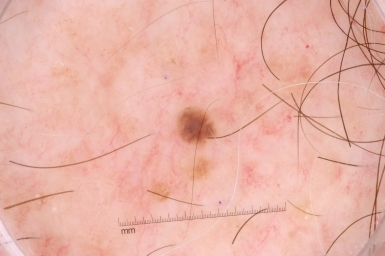seborrheic keratosis: (138, 75, 243, 177)
